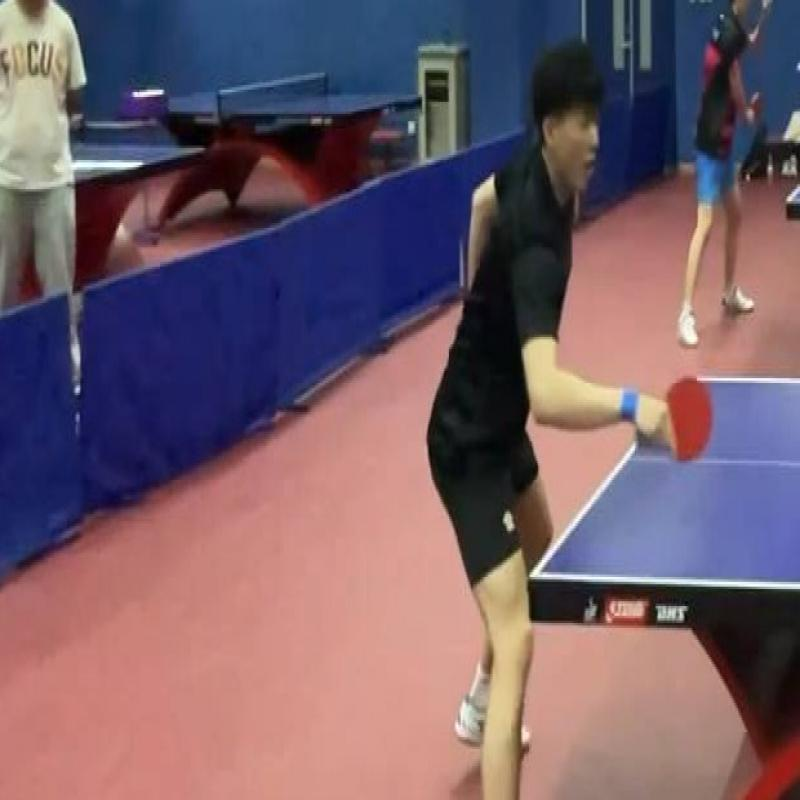bats: (650, 366, 726, 470)
